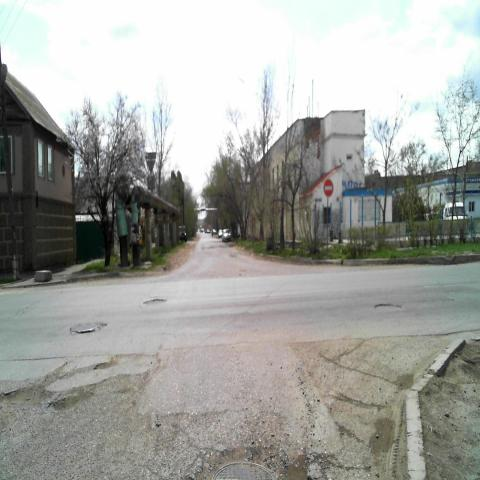3_1: (322, 178, 334, 199)
